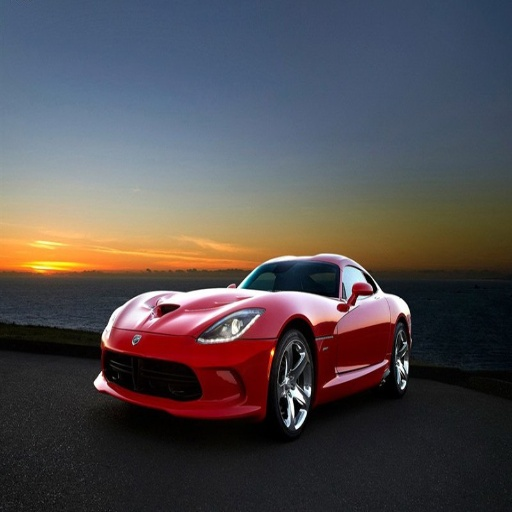front_bumper: (105, 329, 275, 418)
front_left_light: (205, 309, 261, 342)
